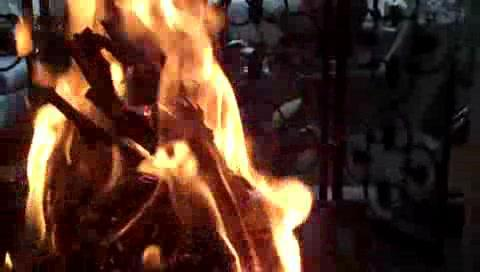fire: (43, 1, 283, 266)
